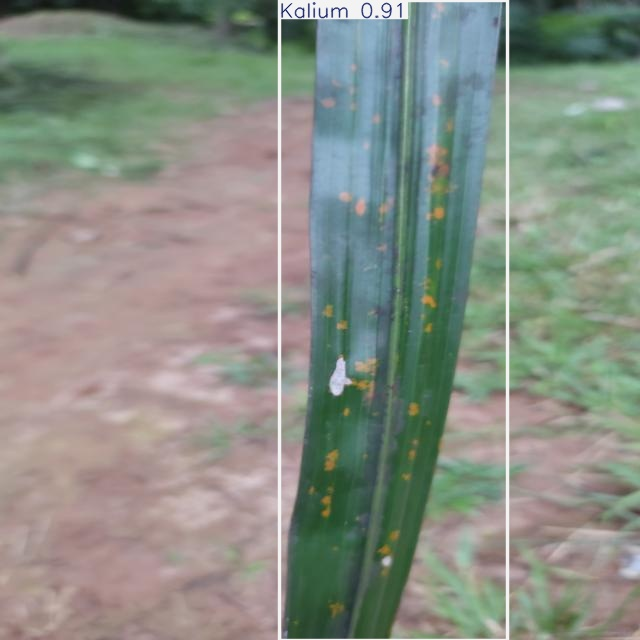Kalium: (279, 0, 507, 640)
